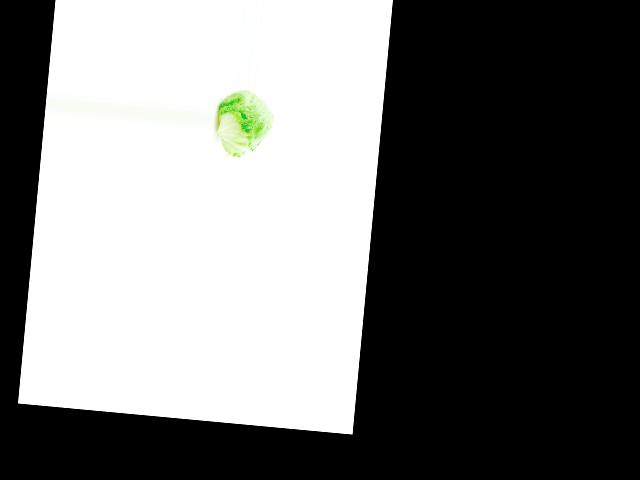lettuce: (213, 85, 278, 160)
